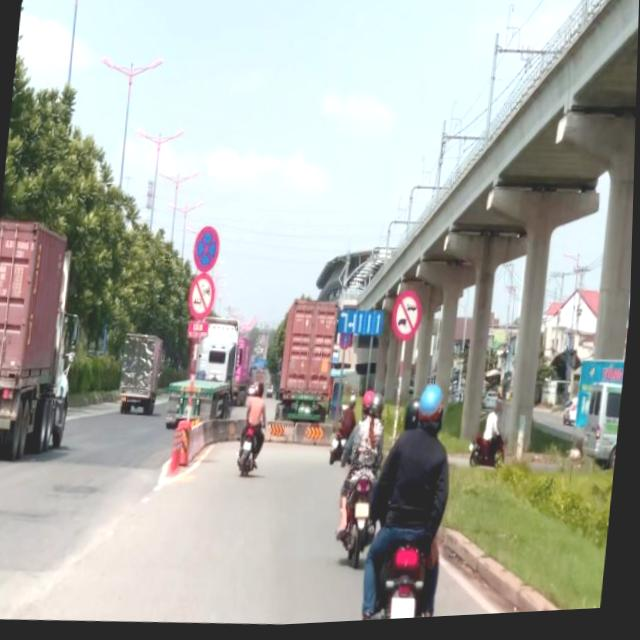Cam dung xe va do xe: (192, 225, 224, 277)
